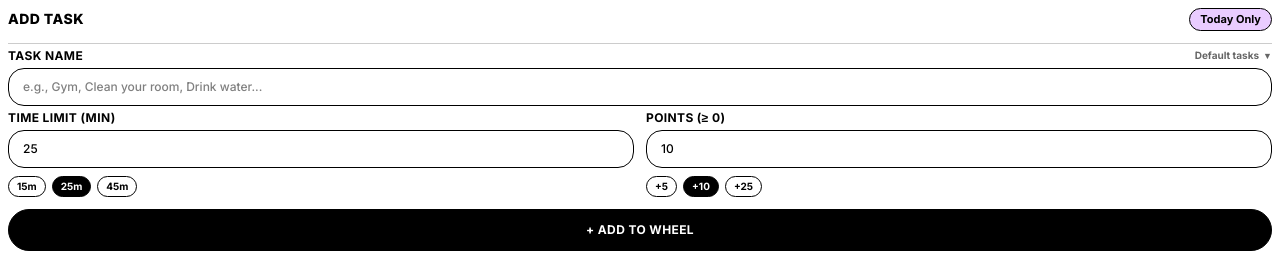
Scenario: components/TaskForm (spec) › filters default tasks based on user typing in task name
The image size is (1280, 268).
Step 1. Type "water" into the field labelled "Task Name" → (640, 86), box [8,68,1272,106]
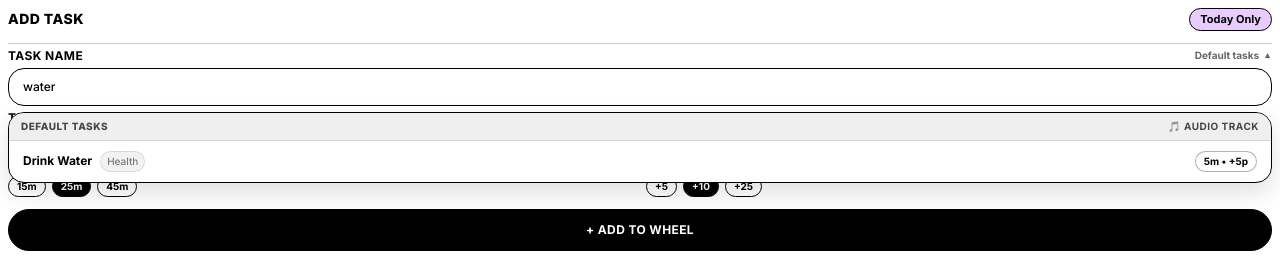
Expected: the option "gym" is not shown
Result: the option "drink water Health 5m • +5p" is shown at [9,140,1271,182]
